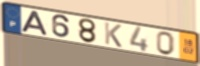0: (155, 30, 176, 56)
4: (128, 26, 151, 54)
6: (50, 14, 71, 40)
8: (77, 18, 97, 44)
A: (20, 9, 50, 37)
K: (103, 21, 123, 49)
